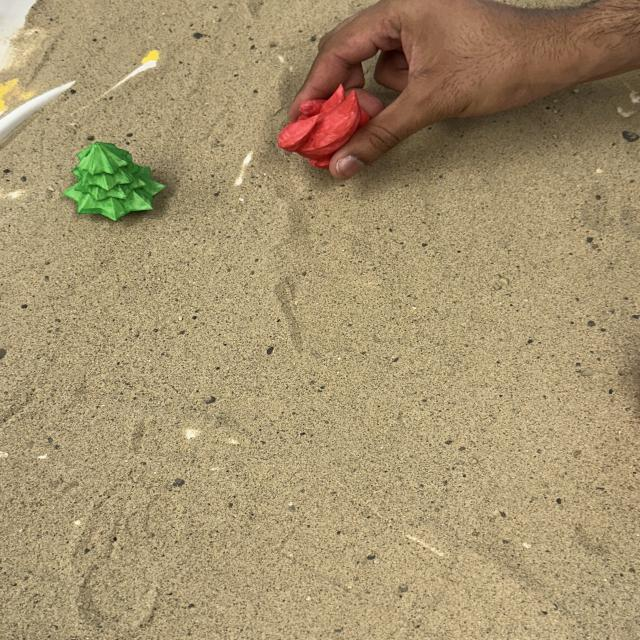fire: (275, 83, 371, 169)
tree: (61, 140, 166, 222)
